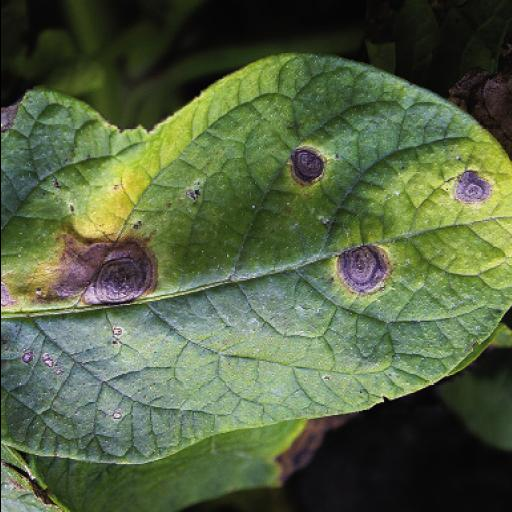disease_tomato: (0, 53, 510, 465)
